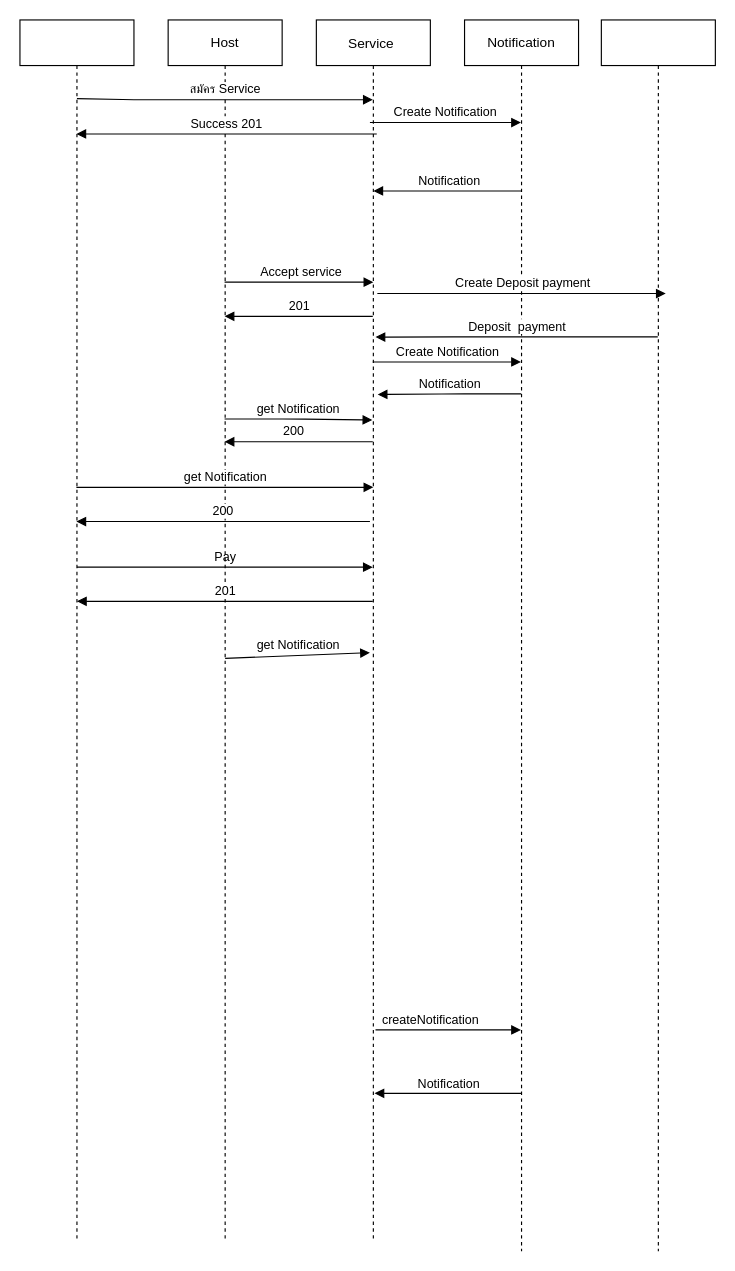
This 735x1271 diagram has some shape labels left out. The shapes that lost their labels are listed below. From the top down, each one's box as (x1, y1, x2, y2) in pixels, then its label:
(19, 19, 134, 1240): Customer
(600, 19, 715, 1251): Payment
